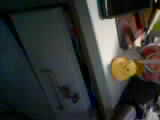duck: (106, 50, 134, 80)
